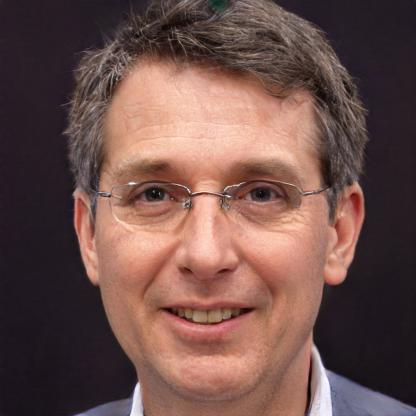glasses: (102, 174, 318, 229)
